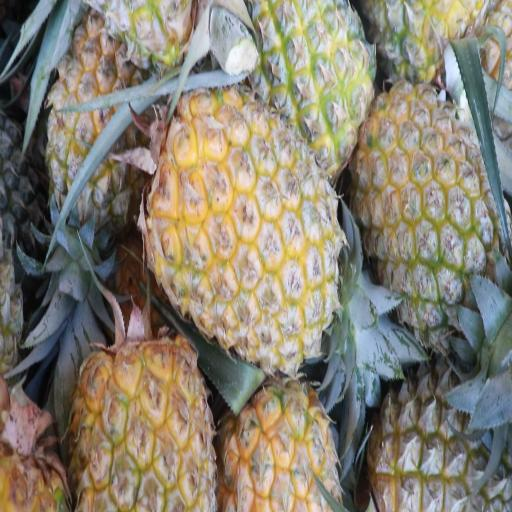------------------------------: (50, 20, 148, 220)
Pineapple - v8 v1: (158, 92, 348, 353), (364, 84, 495, 326), (251, 0, 372, 156)
